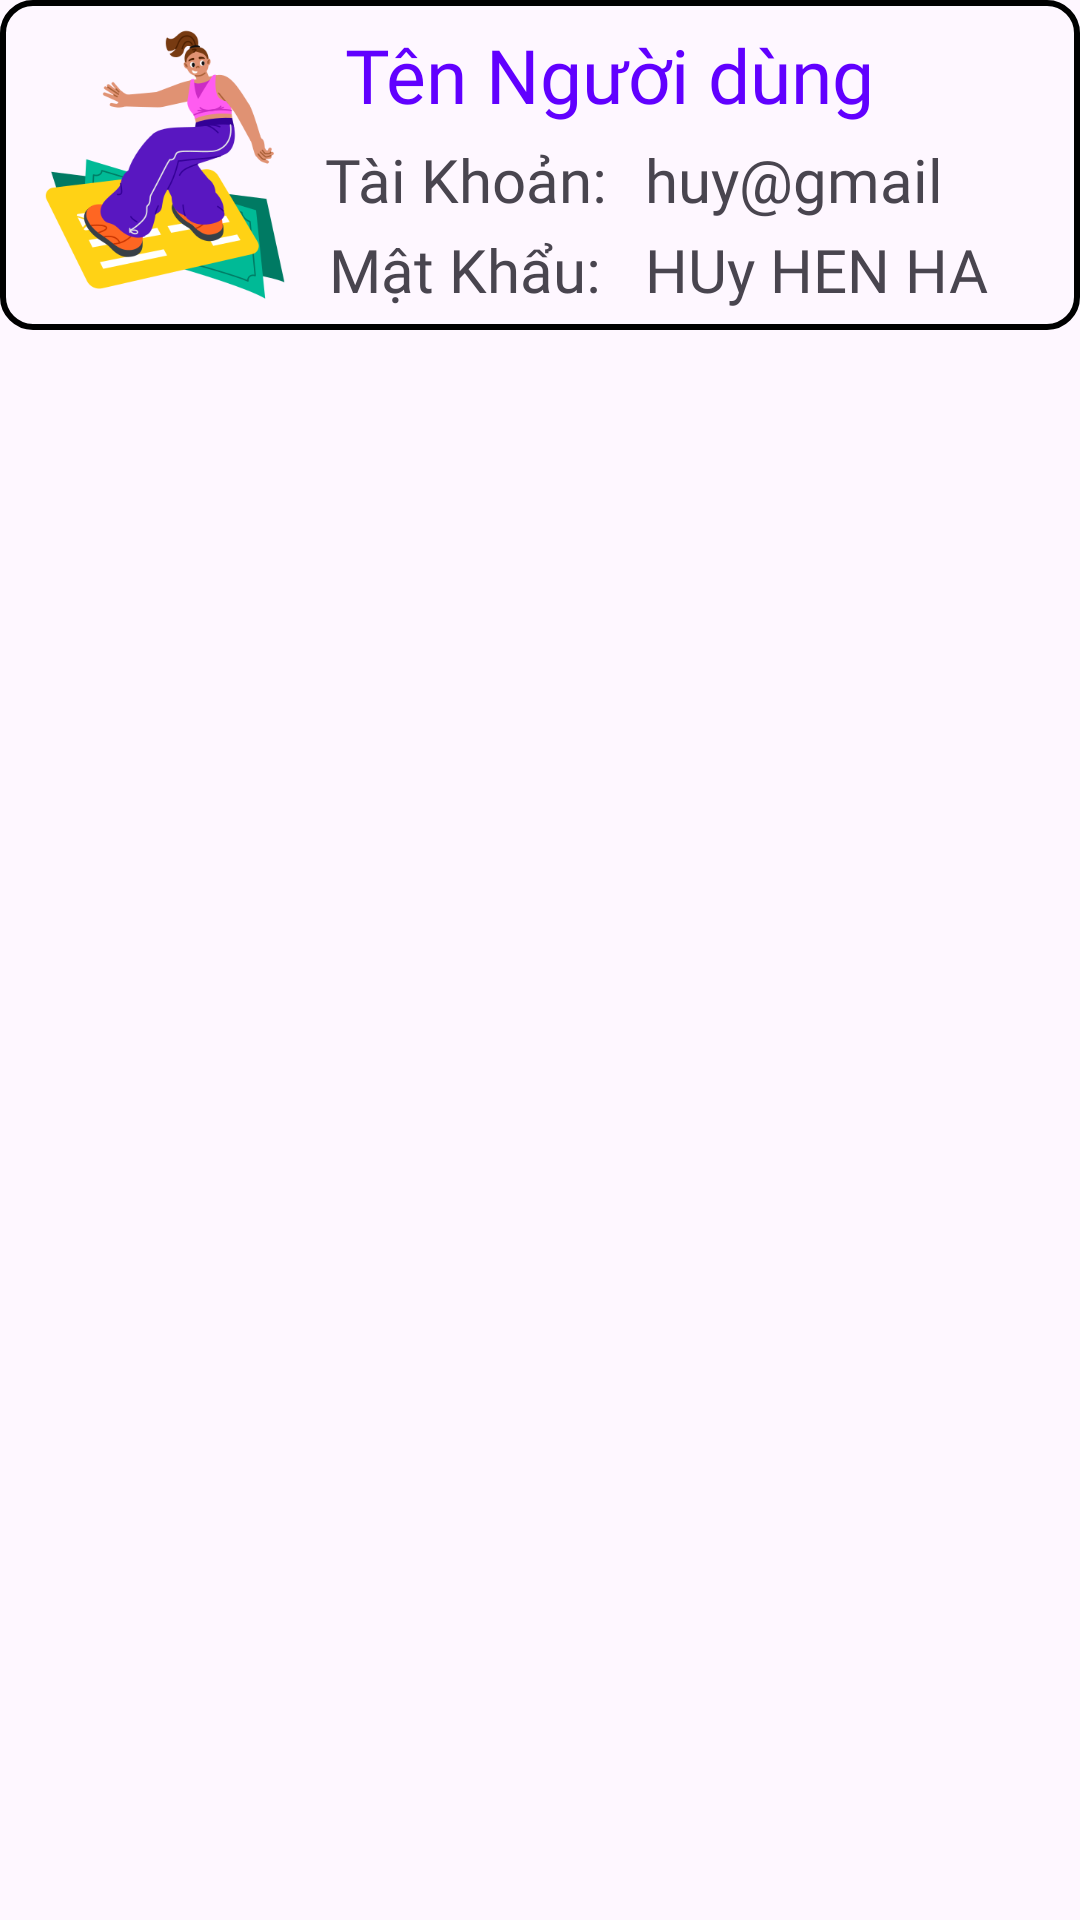

Point at icon controls on the screen. Image size 1080w x 1920h, points as point (x, y).
women homefrag: point (165, 164)
